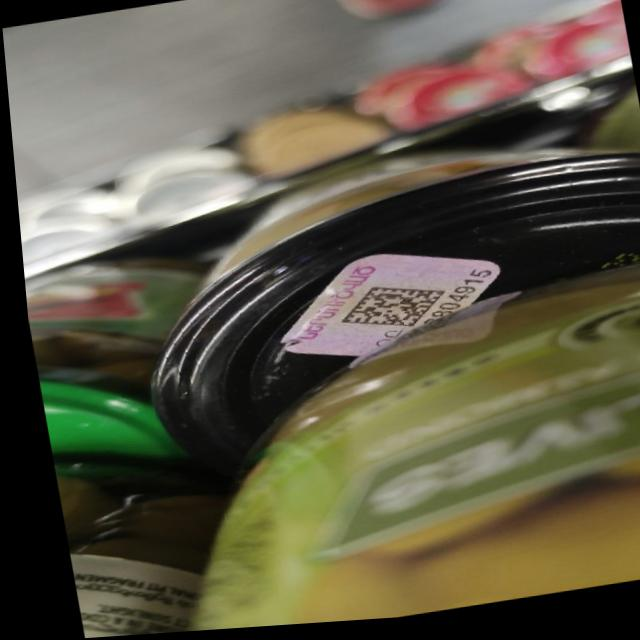datamatrix: (325, 279, 445, 344)
